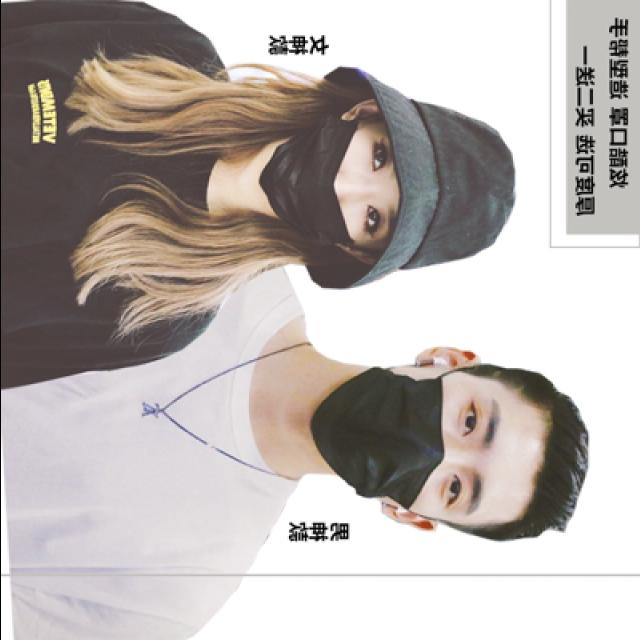mask: (312, 363, 502, 525), (260, 118, 398, 250)
